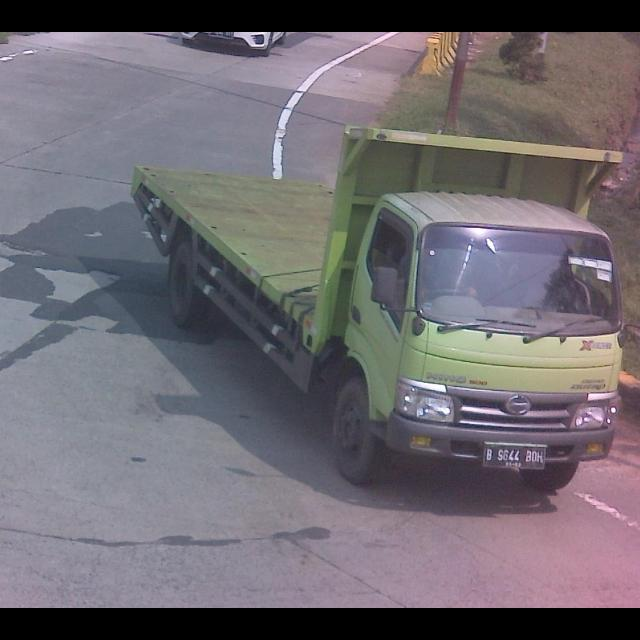plate: (483, 441, 549, 474)
